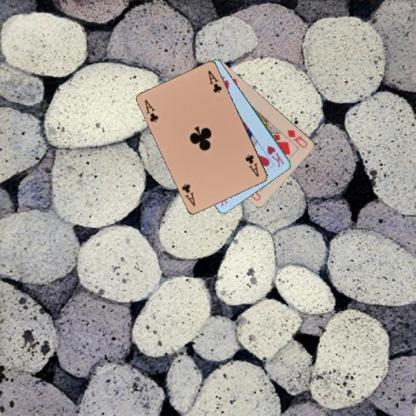Ac: (142, 97, 160, 124), (242, 152, 260, 178)
Kh: (264, 143, 286, 168)
Qd: (284, 126, 310, 150)
